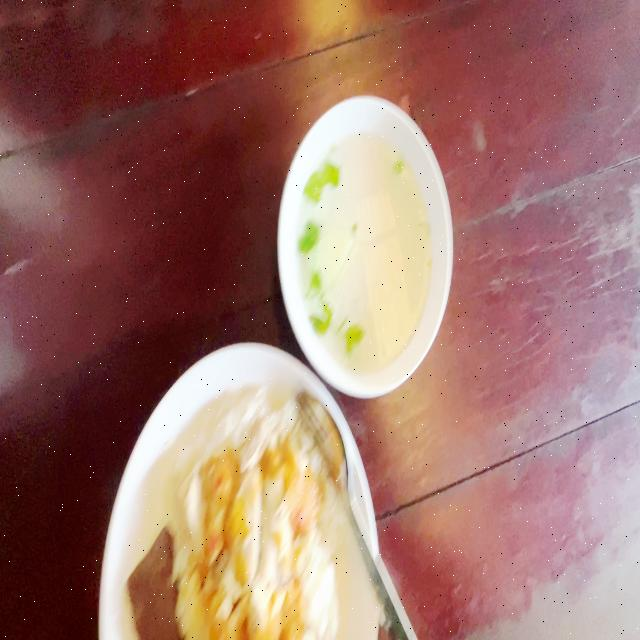boiled_chicken: (188, 437, 310, 630)
boiled_chicken_blood_jelly: (124, 520, 182, 634)
chicken_rice: (124, 387, 336, 640)
